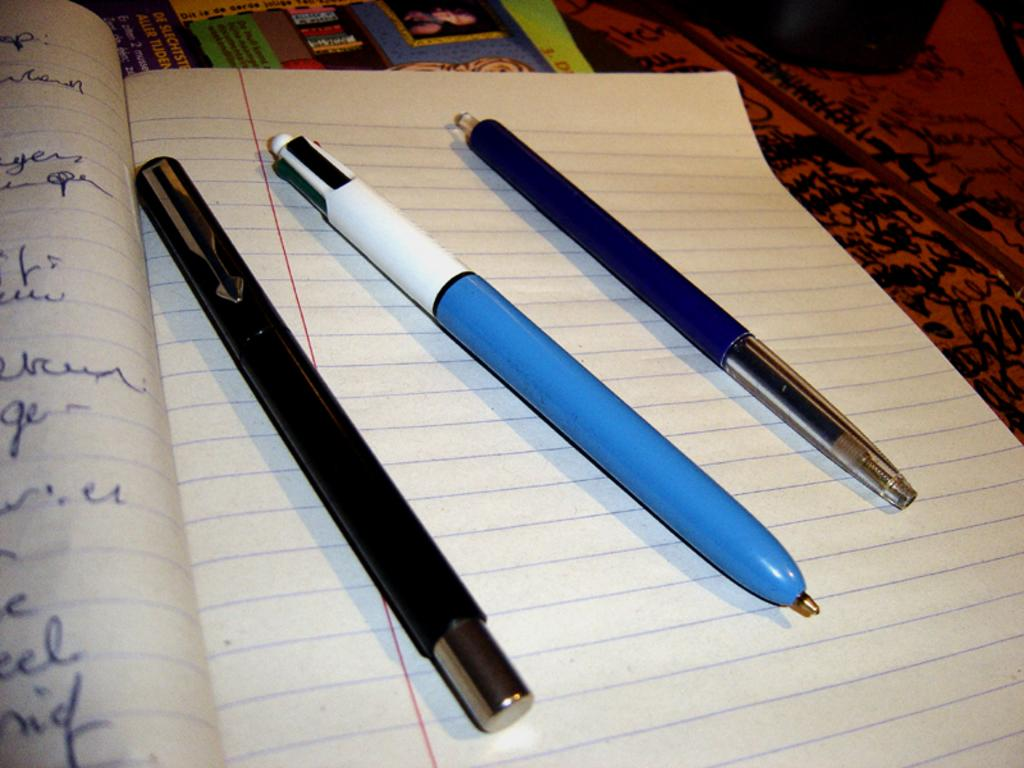pen: (261, 132, 827, 614), (134, 155, 536, 741), (451, 109, 915, 507)
